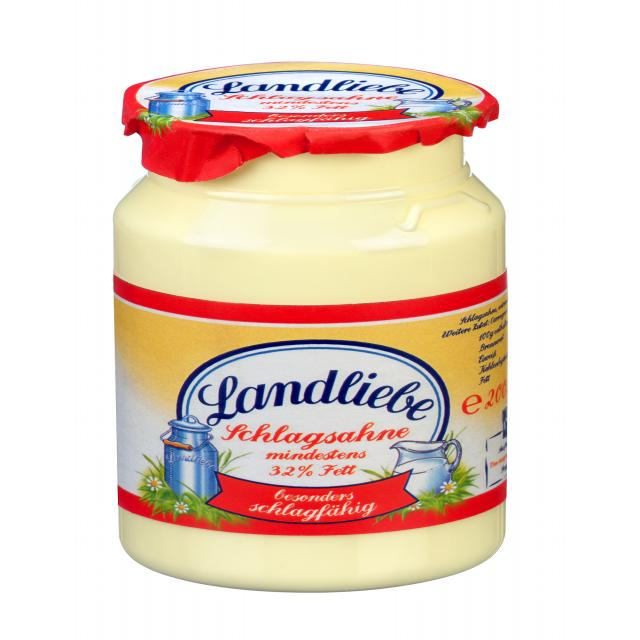cream: (112, 62, 508, 592)
